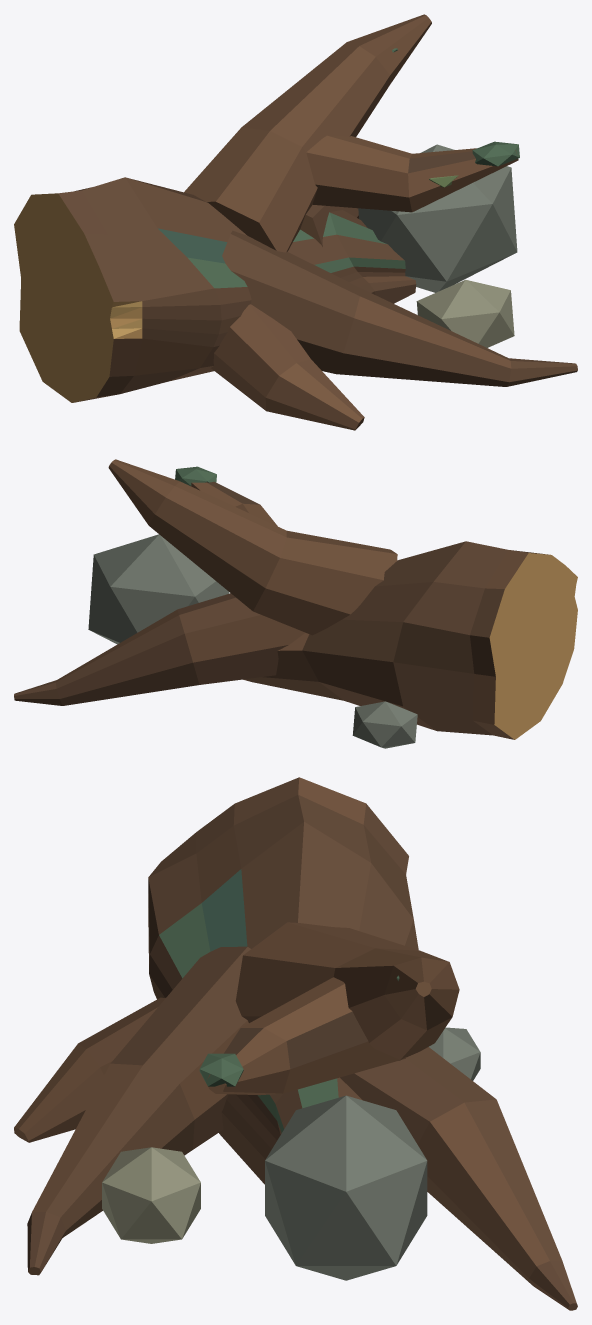
The model's file is rootfall-right.glb.
3 renders of one model, top to bottom at view 1: azimuth 30°, elevation 25°; view 2: azimuth 150°, elevation 25°; view 3: azimuth 270°, elevation 25°, orthographic. The views are drawn at different scales.
Parts seen in each view (by area): view 1: rootfall-right; view 2: rootfall-right; view 3: rootfall-right.
Part boxes in pixels (x1,y1,x2,y2): rootfall-right: (14, 14, 577, 430); rootfall-right: (14, 459, 577, 748); rootfall-right: (14, 777, 577, 1310).
Bounding box in the file's own units: 5.22 × 2.65 × 4.35.
1 material, 1 textured.
